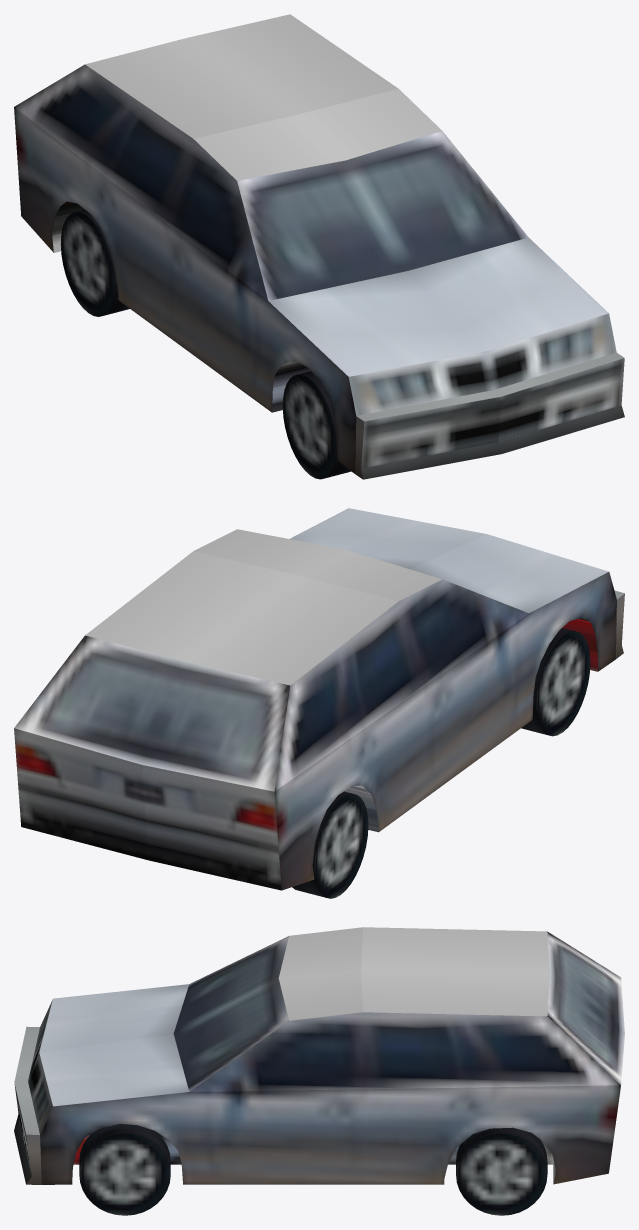
The model's file is car1.glb.
The picture shows the model from 3 angles, top to bottom: view 1: azimuth 30°, elevation 25°; view 2: azimuth 150°, elevation 25°; view 3: azimuth 270°, elevation 25°; orthographic projection. The views are drawn at different scales.
Parts seen in each view (by area): view 1: Plane.001, Plane.002; view 2: Plane.001, Plane.002; view 3: Plane.001, Plane.002.
Part boxes in pixels (left/top/right/bottom): Plane.001: left=14, top=14, right=624, bottom=479; Plane.002: left=60, top=209, right=351, bottom=479; Plane.001: left=14, top=508, right=624, bottom=890; Plane.002: left=292, top=628, right=590, bottom=898; Plane.001: left=14, top=927, right=624, bottom=1184; Plane.002: left=79, top=1124, right=547, bottom=1215.
Size of the model in its own units: 2.54 by 2.13 by 6.09.
Materials: 2 (2 with a texture image).
